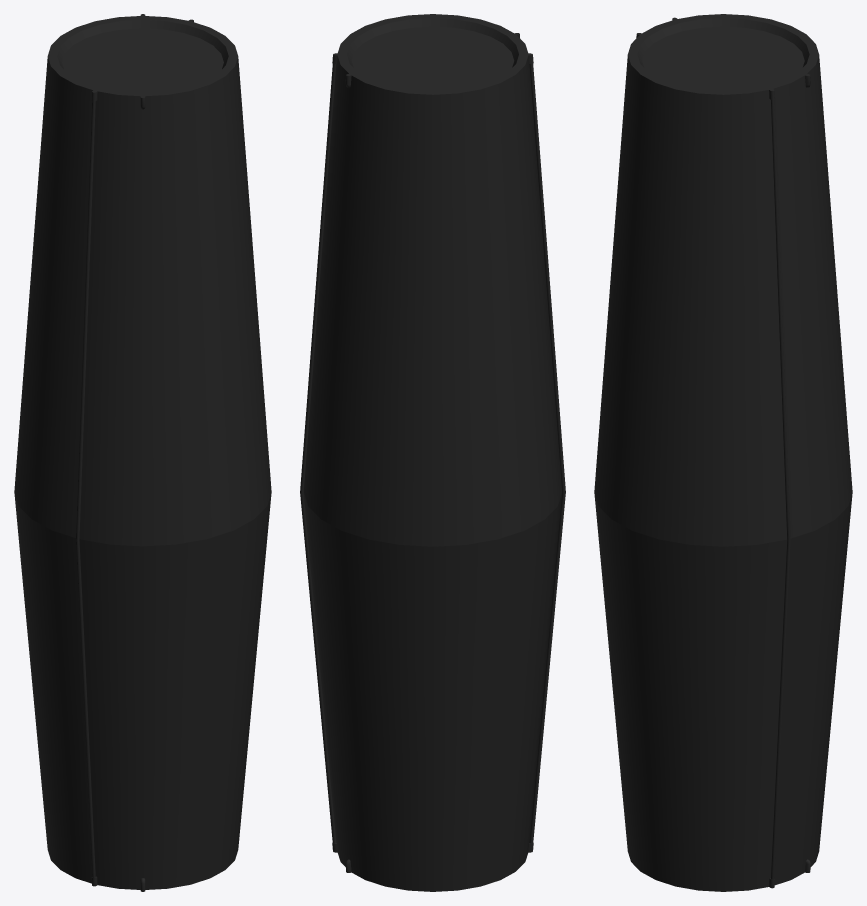
The model's file is TLV_1_LFO_2.obj.
The picture shows the model from 3 angles, left to right: view 1: azimuth 30°, elevation 25°; view 2: azimuth 150°, elevation 25°; view 3: azimuth 270°, elevation 25°; orthographic projection.
Visible parts, largest first — view 1: TLV_1_LFO_2; view 2: TLV_1_LFO_2; view 3: TLV_1_LFO_2.
Part boxes in pixels (left/top/right/bottom): TLV_1_LFO_2: left=14, top=14, right=271, bottom=891; TLV_1_LFO_2: left=300, top=14, right=565, bottom=891; TLV_1_LFO_2: left=594, top=14, right=852, bottom=891.
Bounding box in the file's own units: 1.69 × 5.74 × 1.69.
